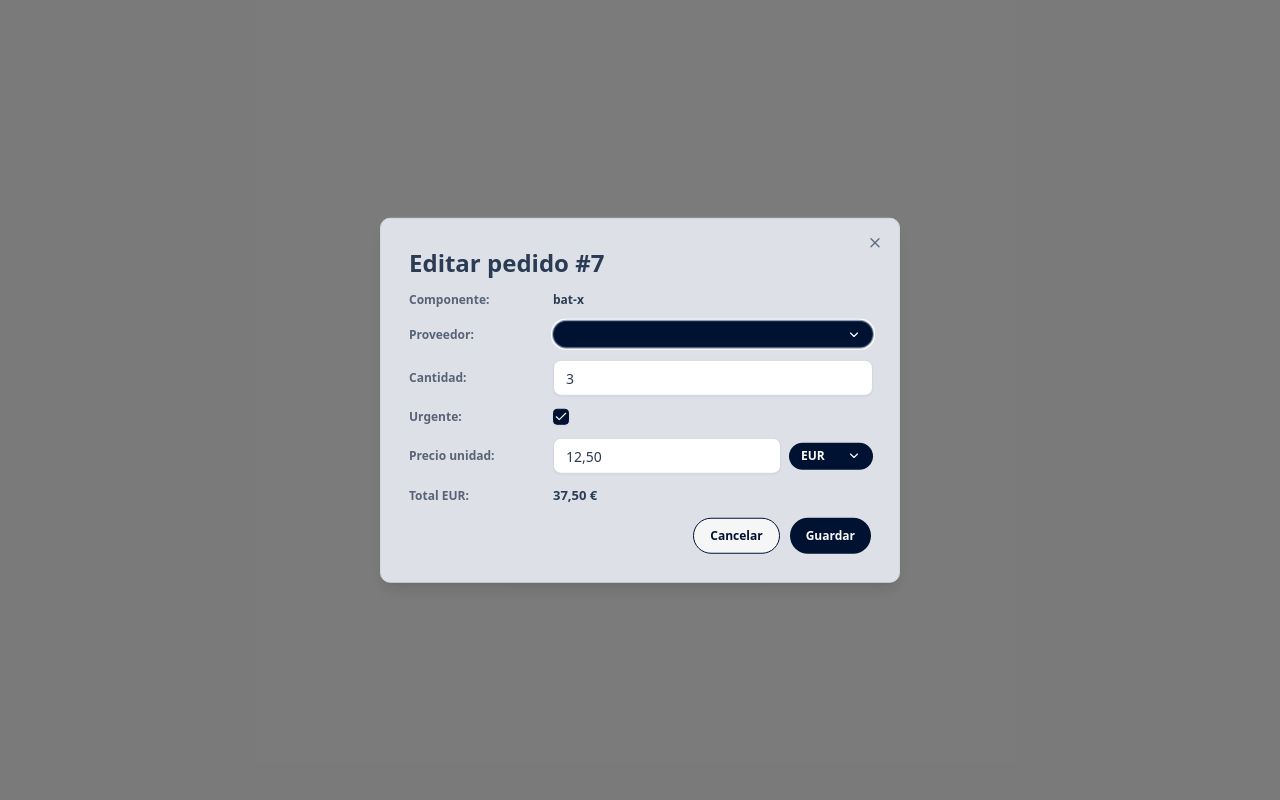
Test case: EditarPedidoDialog › proveedor inactivo: el combo queda vacío (calco) y Guardar pide "Selecciona un proveedor."
Expected: the dropdown named "Proveedor" is empty, [553,321,873,348]
Click the button "Guardar" at (830, 535), box [790,517,871,553]
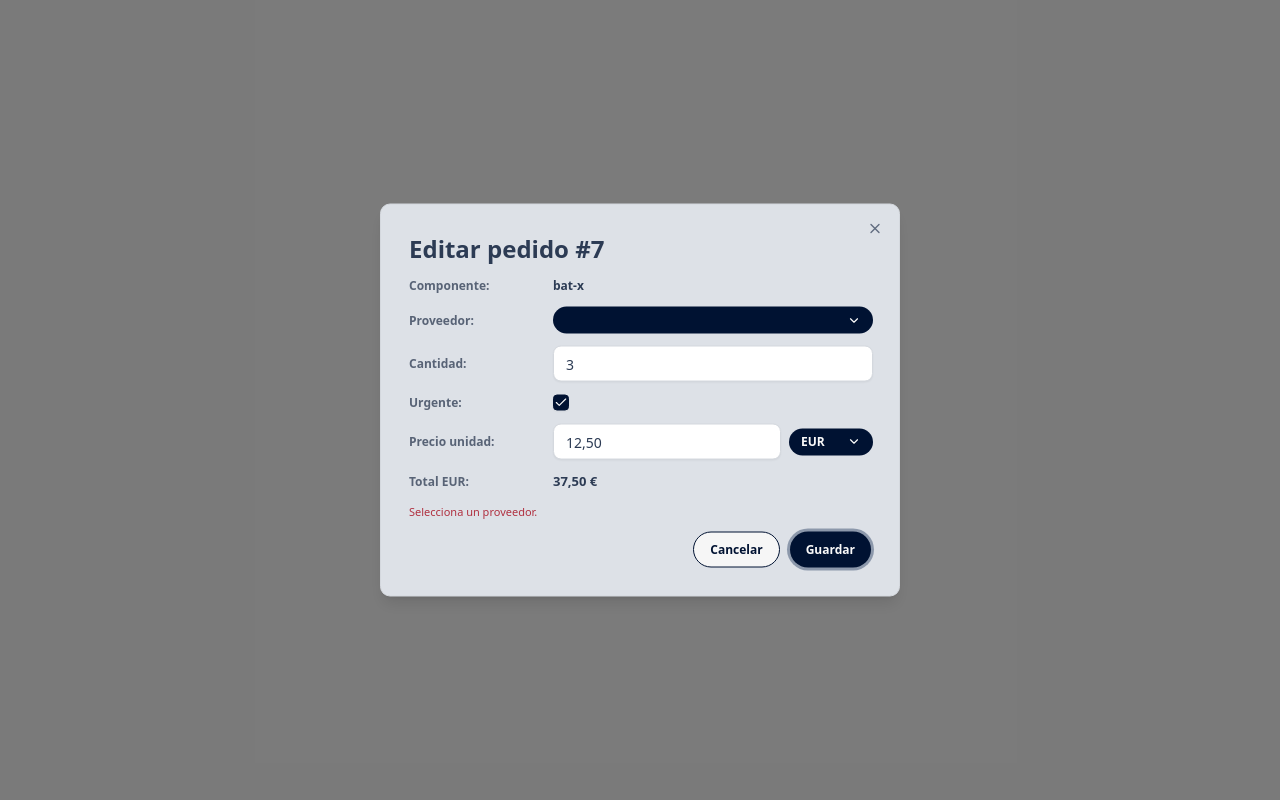
Result: the message reads "Selecciona un proveedor." at [409,503,537,518]
